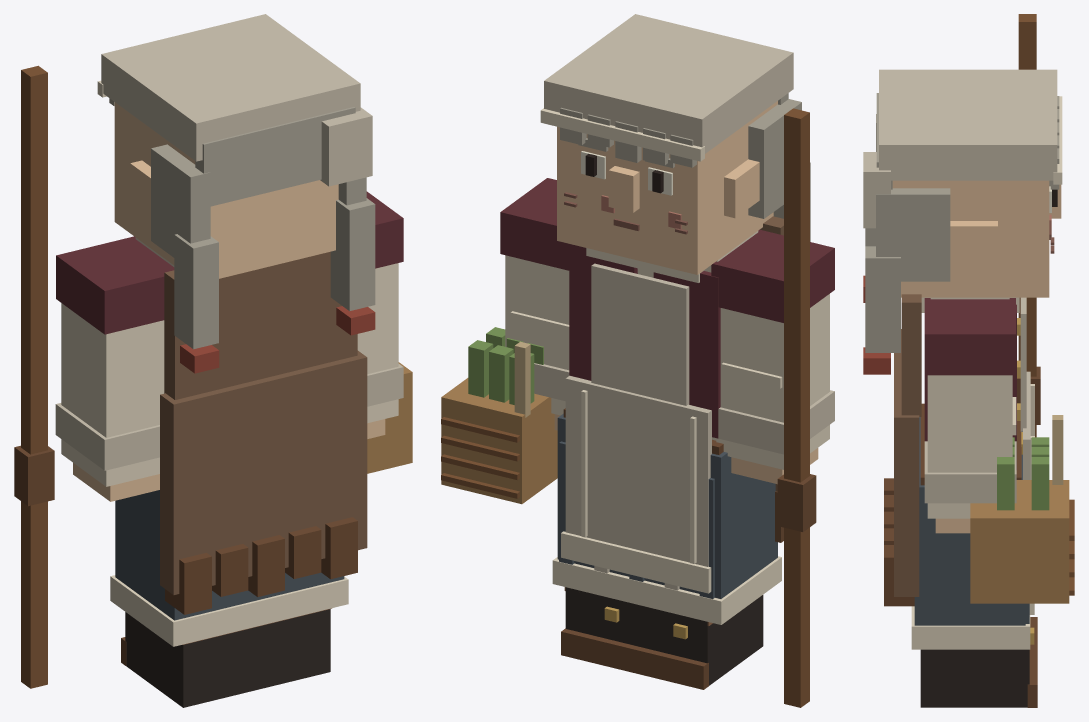
Rendered from elder_woman.obj.
The picture shows the model from 3 angles, left to right: view 1: azimuth 30°, elevation 25°; view 2: azimuth 150°, elevation 25°; view 3: azimuth 270°, elevation 25°; orthographic projection. The views are drawn at different scales.
Parts seen in each view (by area): view 1: head, equipment_back, right_arm, equipment_right, body, right_leg, left_arm, left_leg, equipment_left; view 2: body, head, right_arm, equipment_right, equipment_left, left_arm, right_leg, left_leg; view 3: head, left_arm, equipment_left, body, equipment_back, left_leg, equipment_right.
Part boxes in pixels (x1=…): head: x1=97, y1=14, x2=375, y2=373; equipment_back: x1=160, y1=251, x2=367, y2=614; right_arm: x1=55, y1=236, x2=174, y2=501; equipment_right: x1=14, y1=65, x2=54, y2=688; body: x1=110, y1=237, x2=348, y2=646; right_leg: x1=121, y1=612, x2=258, y2=707; left_arm: x1=357, y1=191, x2=403, y2=438; left_leg: x1=254, y1=608, x2=331, y2=690; equipment_left: x1=367, y1=362, x2=412, y2=473; body: x1=552, y1=231, x2=781, y2=624; head: x1=540, y1=14, x2=810, y2=274; right_arm: x1=711, y1=229, x2=834, y2=484; equipment_right: x1=777, y1=108, x2=816, y2=707; equipment_left: x1=441, y1=327, x2=557, y2=504; left_arm: x1=500, y1=178, x2=569, y2=430; right_leg: x1=630, y1=595, x2=763, y2=689; left_leg: x1=561, y1=587, x2=637, y2=672; head: x1=863, y1=69, x2=1062, y2=374; left_arm: x1=924, y1=298, x2=1016, y2=533; equipment_left: x1=970, y1=415, x2=1074, y2=603; body: x1=911, y1=297, x2=1034, y2=649; equipment_back: x1=884, y1=294, x2=921, y2=606; left_leg: x1=920, y1=627, x2=1037, y2=707; equipment_right: x1=1017, y1=14, x2=1040, y2=437.
Bounding box in the file's own units: 1.23 × 2.02 × 0.6675.
